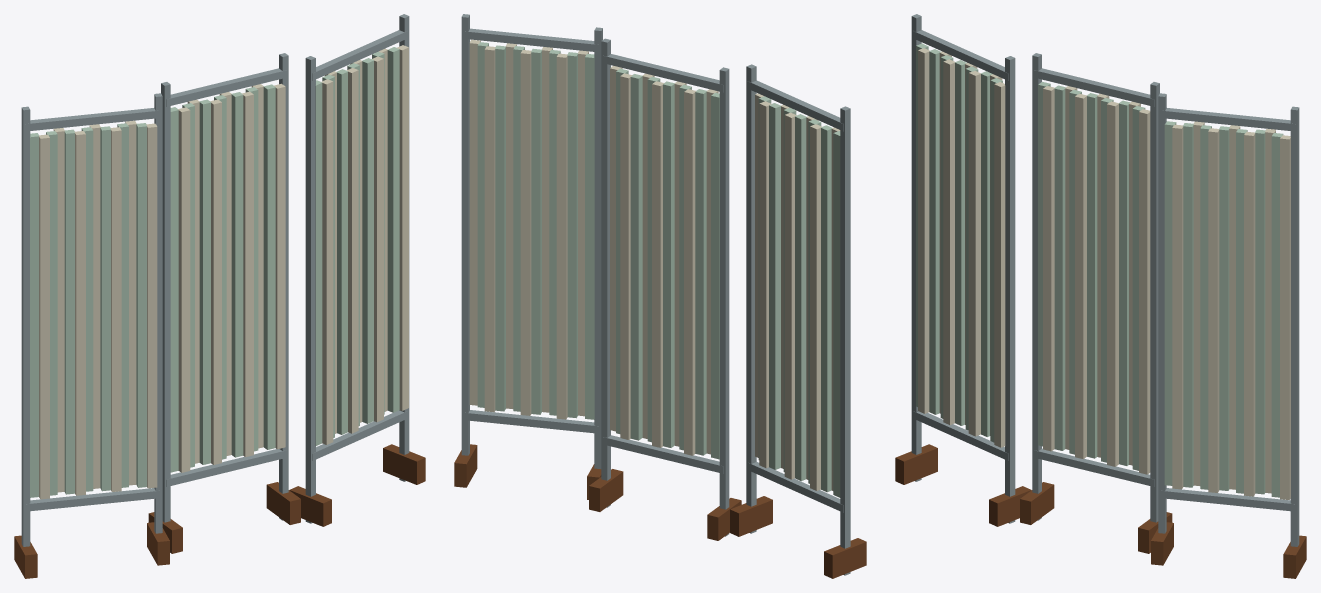
Rendered from mia-screen_med.glb.
The picture shows the model from 3 angles, left to right: view 1: azimuth 30°, elevation 25°; view 2: azimuth 150°, elevation 25°; view 3: azimuth 330°, elevation 25°; orthographic projection.
Visible parts, largest first — view 1: Body_mattress, Body_iv-bag, Body_steel, Body_rust; view 2: Body_iv-bag, Body_mattress, Body_steel, Body_rust; view 3: Body_mattress, Body_iv-bag, Body_steel, Body_rust.
Part boxes in pixels (box(x1,y1,x2,y2)): Body_mattress: box(39, 45, 408, 499); Body_iv-bag: box(30, 47, 399, 497); Body_steel: box(21, 14, 409, 546); Body_rust: box(14, 444, 425, 578); Body_iv-bag: box(477, 42, 840, 497); Body_mattress: box(469, 39, 840, 490); Body_steel: box(461, 14, 850, 575); Body_rust: box(454, 444, 866, 578); Body_mattress: box(918, 48, 1290, 499); Body_iv-bag: box(916, 43, 1283, 497); Body_steel: box(911, 14, 1299, 546); Body_rust: box(895, 444, 1306, 578).
Size of the model in its own units: 1.64 by 1.81 by 0.3088.
